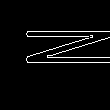N_E: (1, 35, 109, 75)
